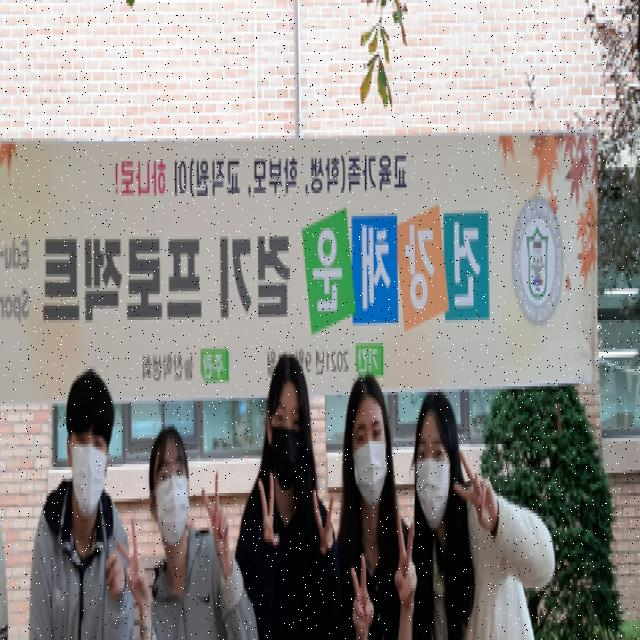logo: (508, 197, 565, 331)
